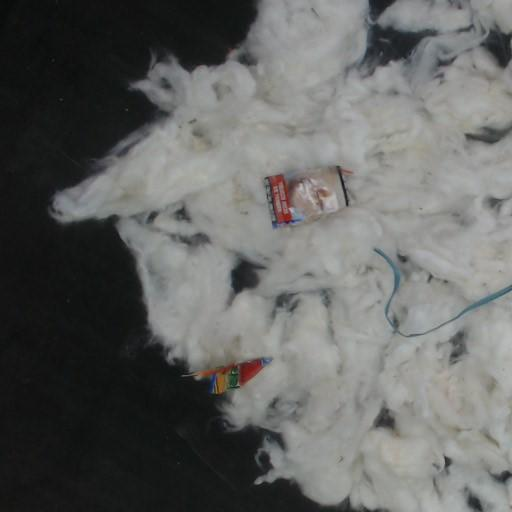cotton: (51, 0, 511, 511)
packet: (264, 166, 351, 227), (189, 358, 271, 394)
thread: (374, 247, 511, 337)
